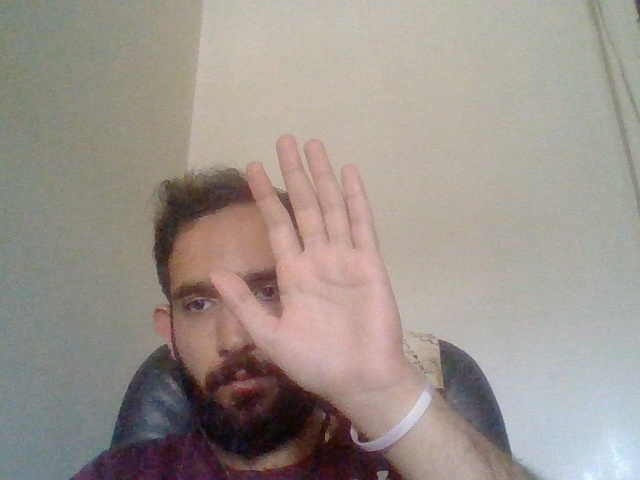Goodbye: (208, 129, 422, 396)
